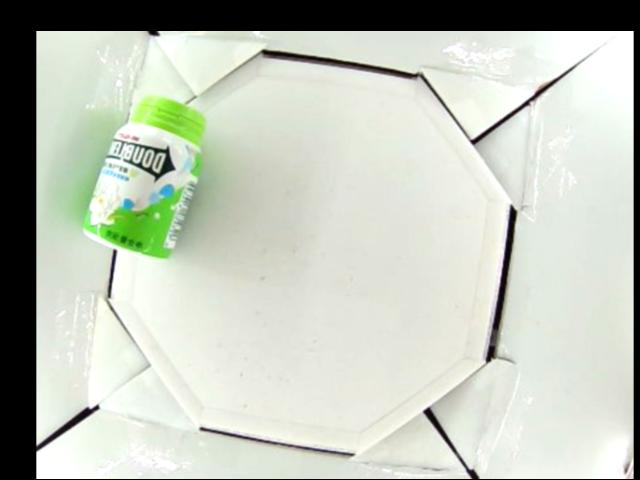Bottle: (79, 90, 208, 260)
